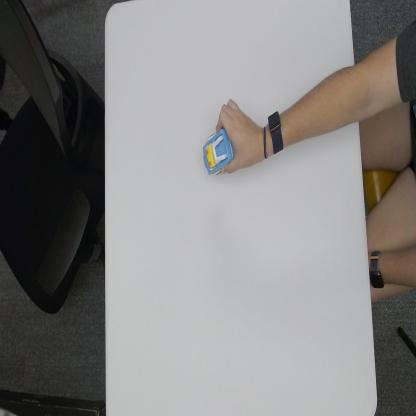Arm: (282, 64, 358, 143)
Car: (202, 129, 234, 177)
Hand: (218, 96, 266, 174)
